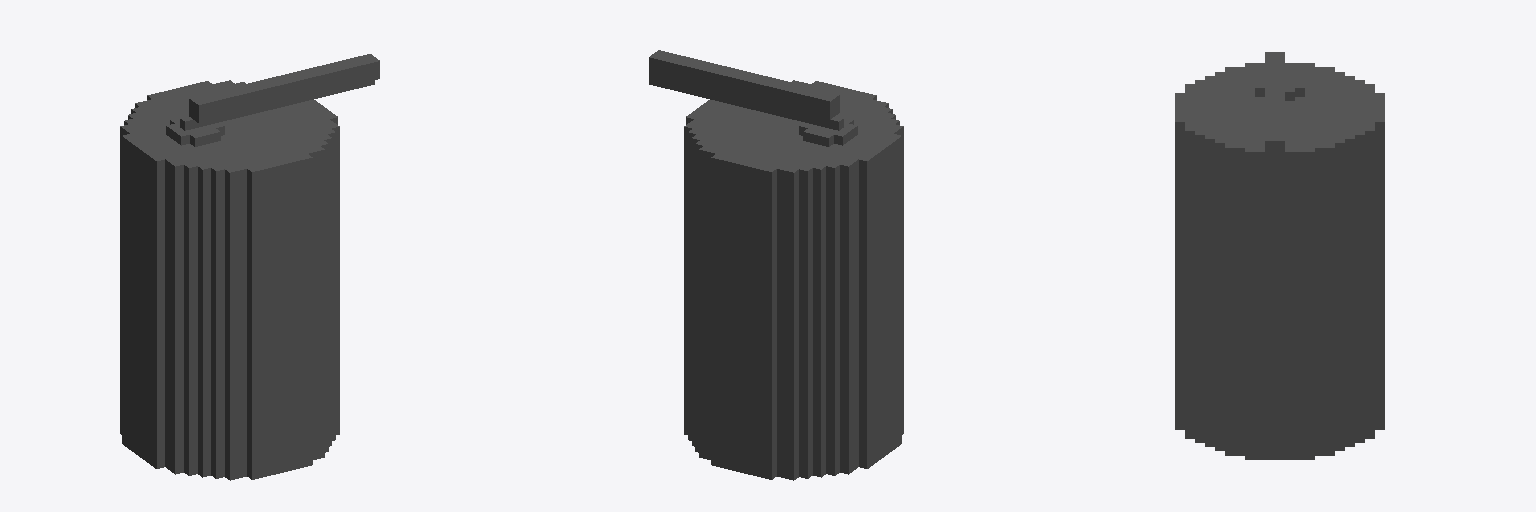
The picture shows the model from 3 angles: view 1: azimuth 30°, elevation 25°; view 2: azimuth 150°, elevation 25°; view 3: azimuth 270°, elevation 25°; orthographic projection.
Size of the model in its own units: 27 by 38 by 21.
1 materials, 1 textured.